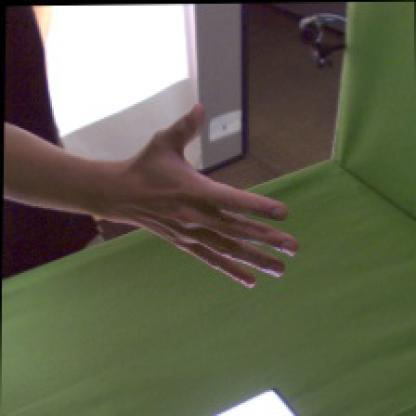Hand: (116, 104, 300, 290)
